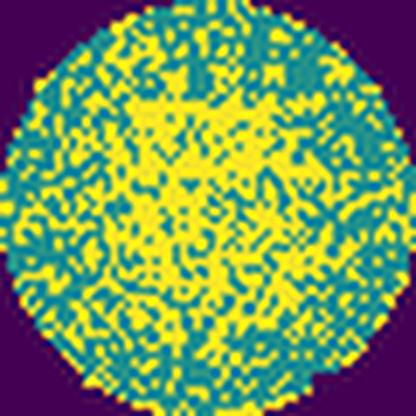Random: (15, 17, 405, 404)
